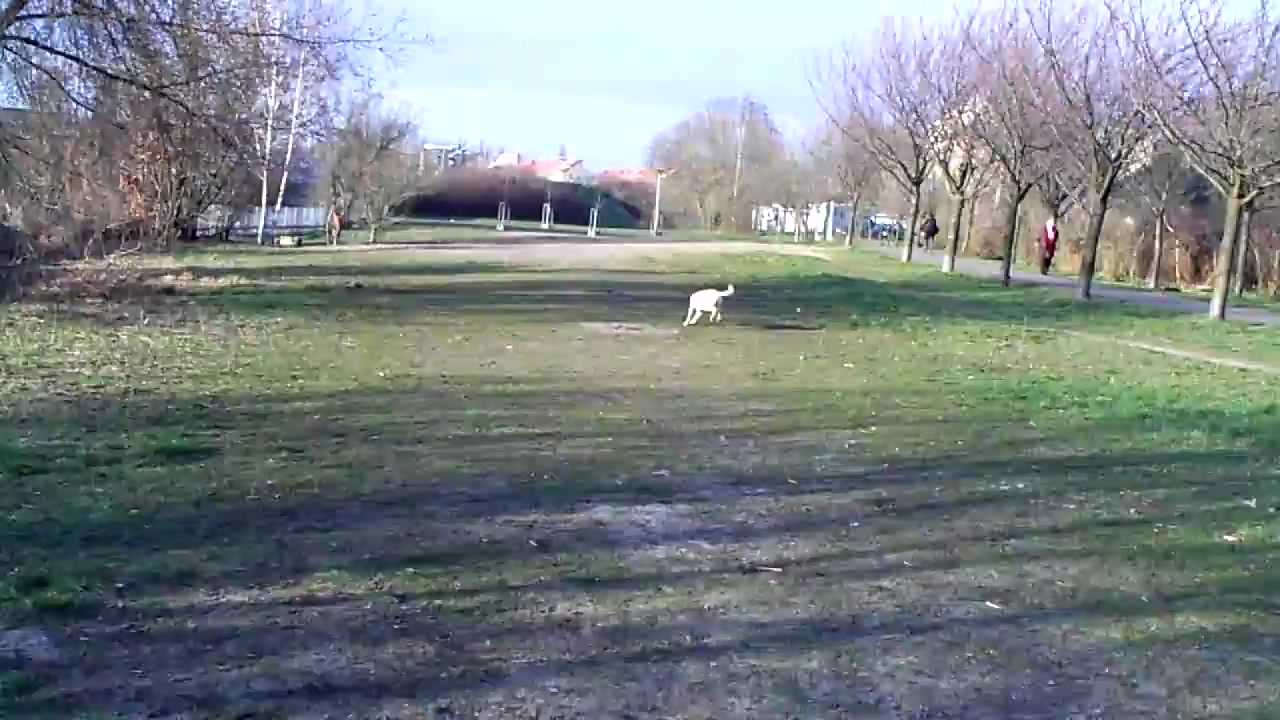dog: (677, 282, 740, 330)
